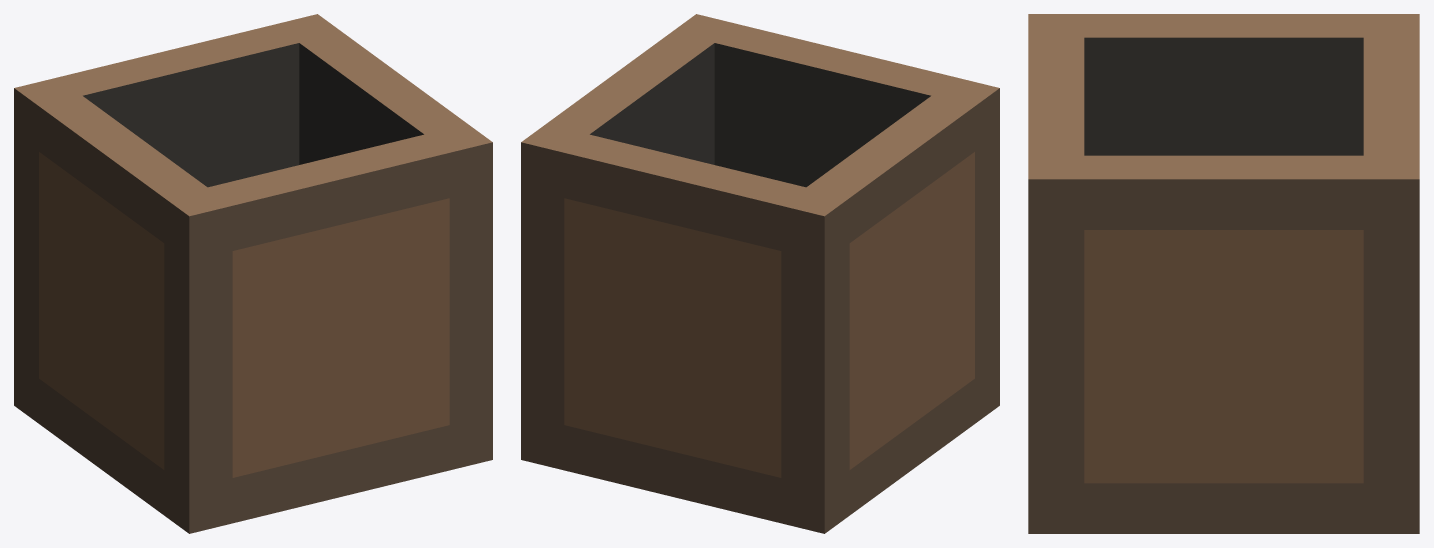
File: TB_D_Prop_Crate_Open_A.FBX
The picture shows the model from 3 angles, left to right: view 1: azimuth 30°, elevation 25°; view 2: azimuth 150°, elevation 25°; view 3: azimuth 270°, elevation 25°; orthographic projection. The views are drawn at different scales.
Parts seen in each view (by area): view 1: TB_D_Prop_Crate_Open_A; view 2: TB_D_Prop_Crate_Open_A; view 3: TB_D_Prop_Crate_Open_A.
Part boxes in pixels (x1,y1,x2,y2): TB_D_Prop_Crate_Open_A: (14,14,492,533); TB_D_Prop_Crate_Open_A: (521,14,999,533); TB_D_Prop_Crate_Open_A: (1028,14,1419,533).
Bounding box in the file's own units: 0.7554 × 0.7554 × 0.7554.
